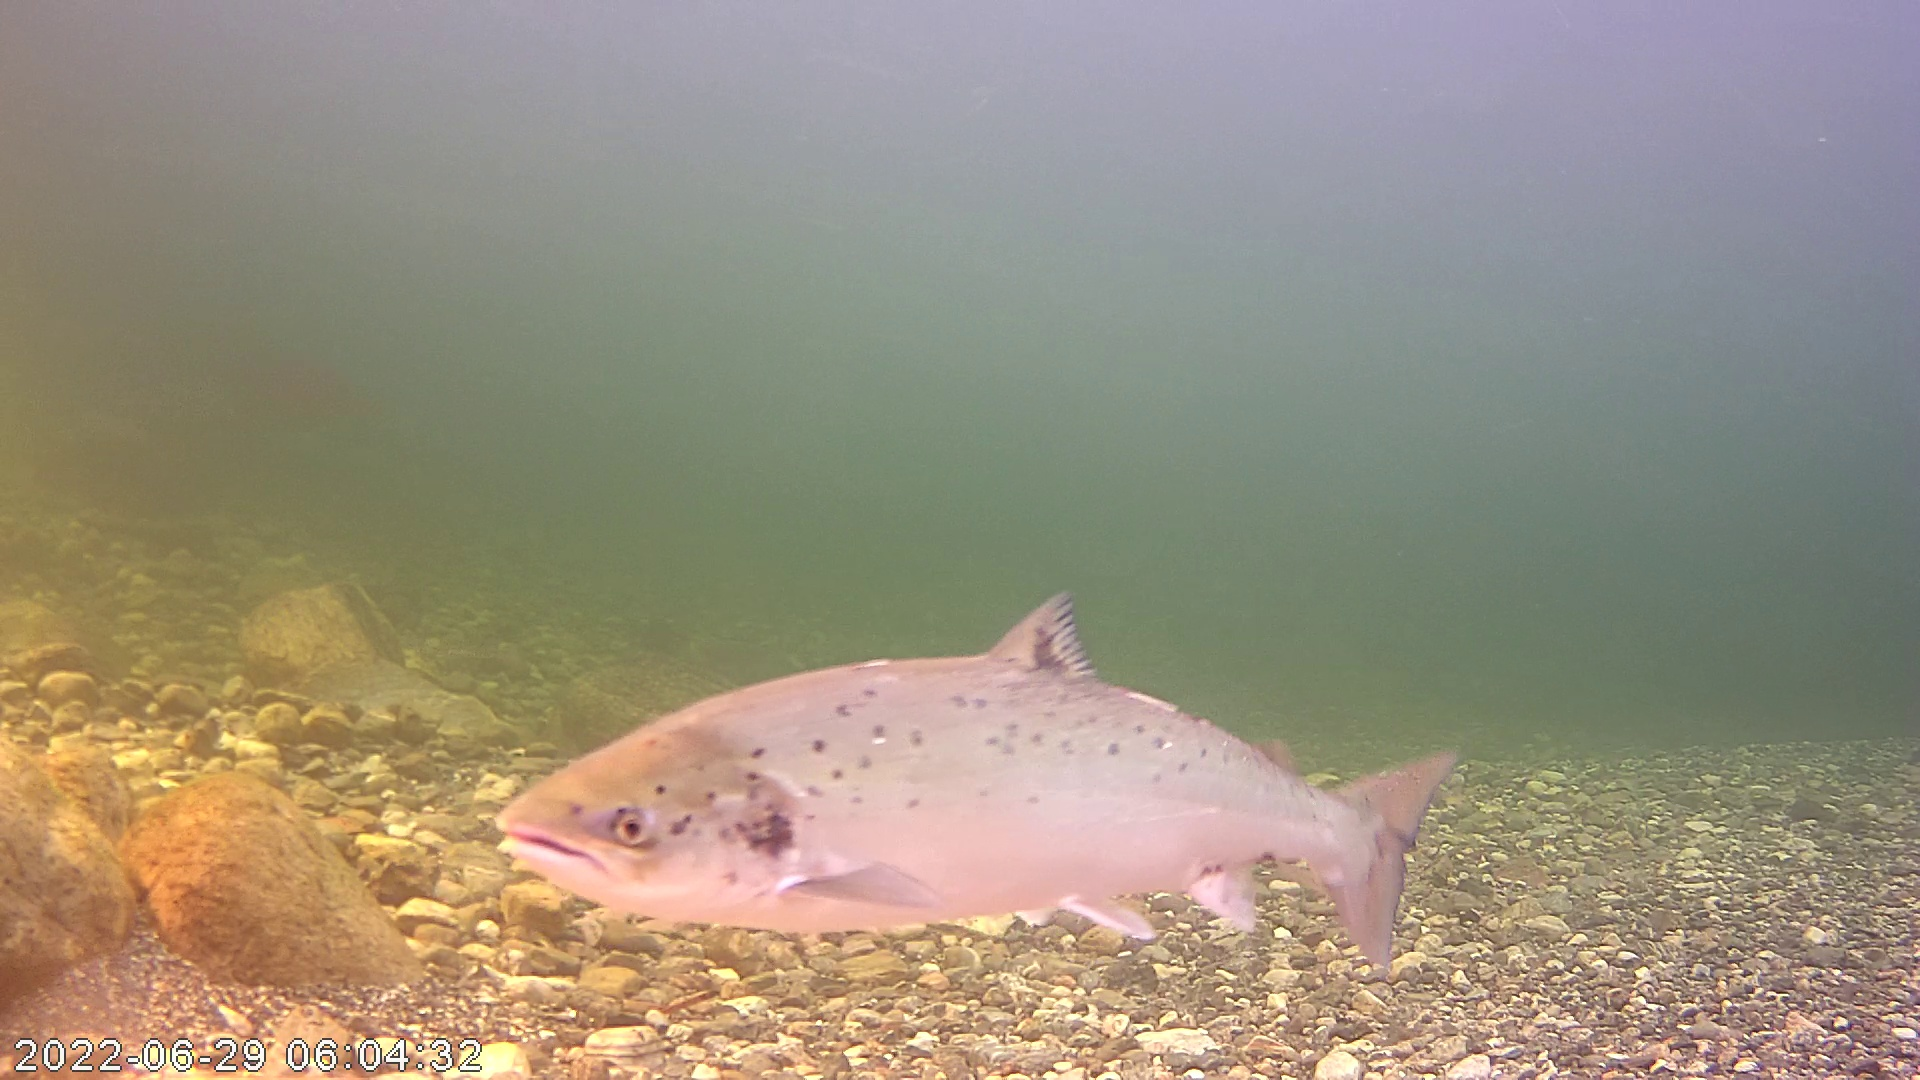salmon: (518, 546, 1452, 960)
